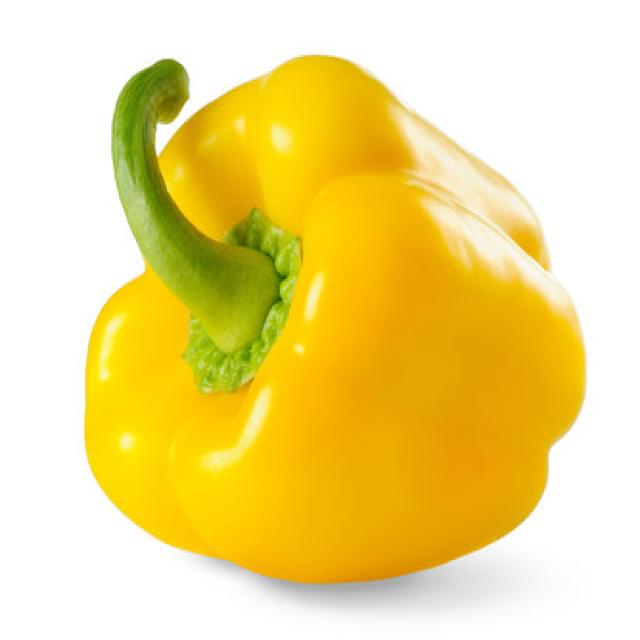Bell Pepper: (81, 59, 584, 590)
